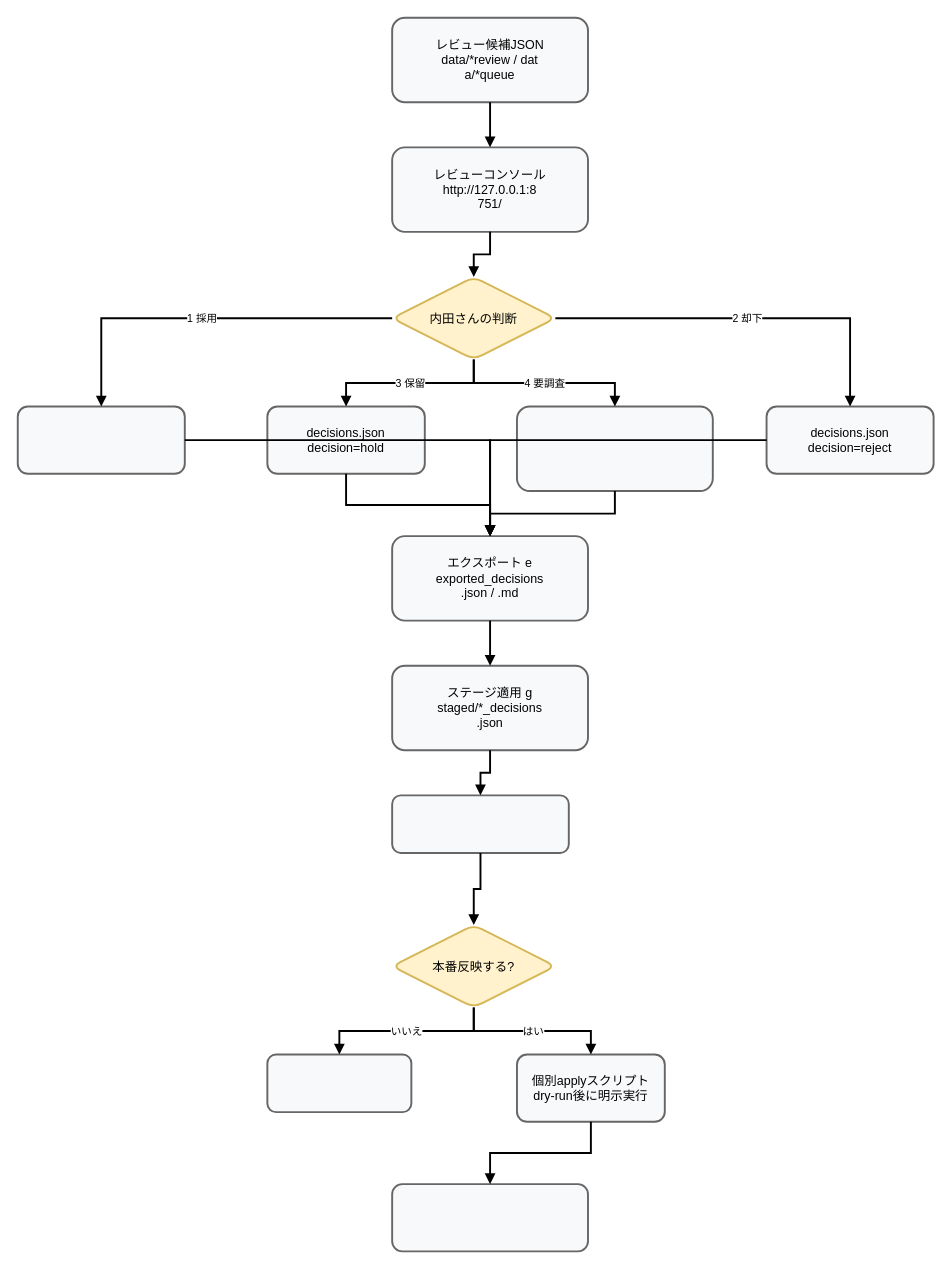
This 950x1268 diagram has some shape labels left out. The shapes that lost their labels are listed below. From the top down, each one's centre as x and y in pixels, then its label:
At point (100, 439): "decisions.json decision=accept".
At point (614, 448): "decisions.json decision=needs_res earch".
At point (480, 823): "おと、または個別applyが確認".
At point (339, 1083): "ローカルに保持".
At point (489, 1217): "Master RDB / 公開JSO N / Notion等".
